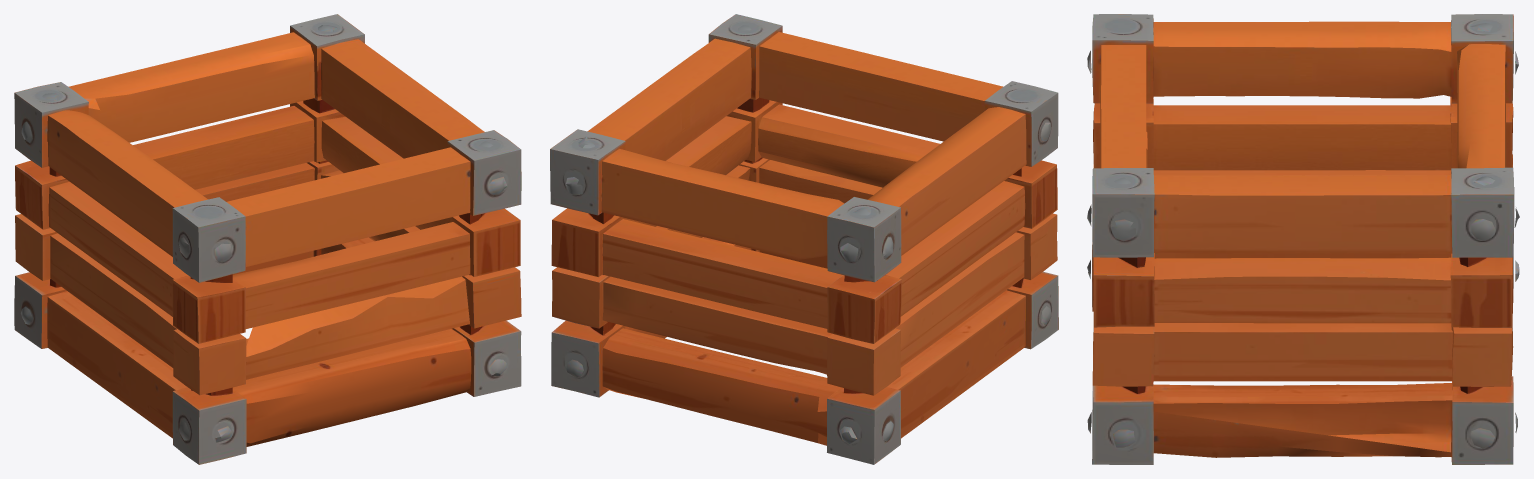
Rendered from crate_3.glb.
The picture shows the model from 3 angles, left to right: view 1: azimuth 30°, elevation 25°; view 2: azimuth 150°, elevation 25°; view 3: azimuth 270°, elevation 25°; orthographic projection. The views are drawn at different scales.
Parts seen in each view (by area): view 1: Mesh_0; view 2: Mesh_0; view 3: Mesh_0.
Part boxes in pixels (x1=…): Mesh_0: x1=14, y1=14, x2=521, y2=464; Mesh_0: x1=550, y1=14, x2=1058, y2=464; Mesh_0: x1=1087, y1=14, x2=1519, y2=464.
Size of the model in its own units: 0.7 by 0.4893 by 0.697.
1 material, 1 textured.
